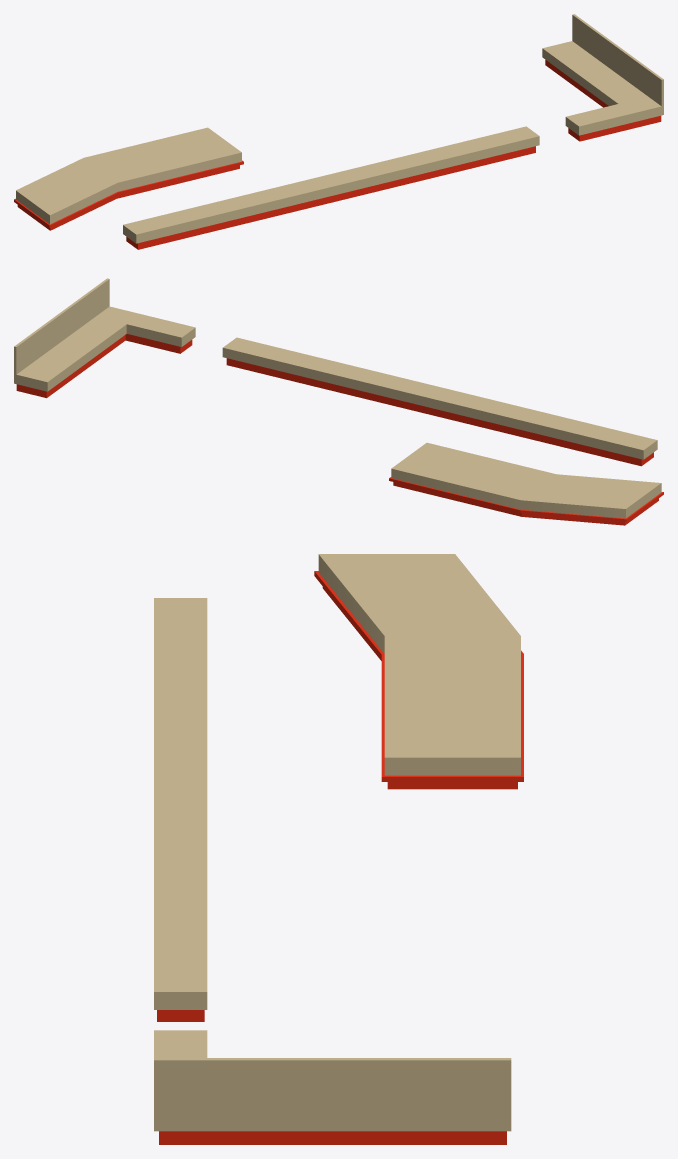
File: Seats.fbx
3 views of the same model, one above another, from view 1: azimuth 30°, elevation 25°; view 2: azimuth 150°, elevation 25°; view 3: azimuth 270°, elevation 25° (orthographic). The views are drawn at different scales.
Parts seen in each view (by area): view 1: Seats_Side_Window; view 2: Seats_Side_Window; view 3: Seats_Side_Window.
Part boxes in pixels (bbox=[...]): Seats_Side_Window: bbox=[14, 14, 663, 249]; Seats_Side_Window: bbox=[14, 278, 663, 525]; Seats_Side_Window: bbox=[154, 554, 523, 1144].
Bounding box in the file's own units: 1743 × 124 × 487.
